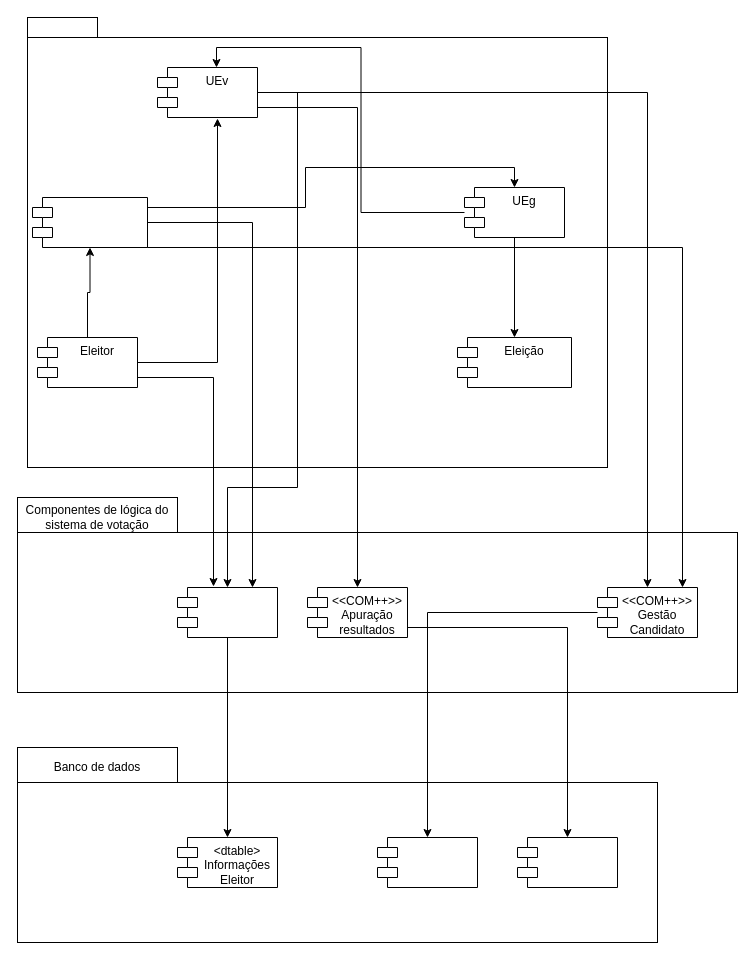
Image size: 755x960. Some labels were removed from this diagram. Here are the shapes that lost their labels. From the top down, the centre of each, then its label:
point 62,27: Votação
point 90,222: ADM
point 227,612: <<COM++>> Gestão Eleitor
point 427,862: <dtable> Informações Candidato
point 567,862: <dtable> Votos
